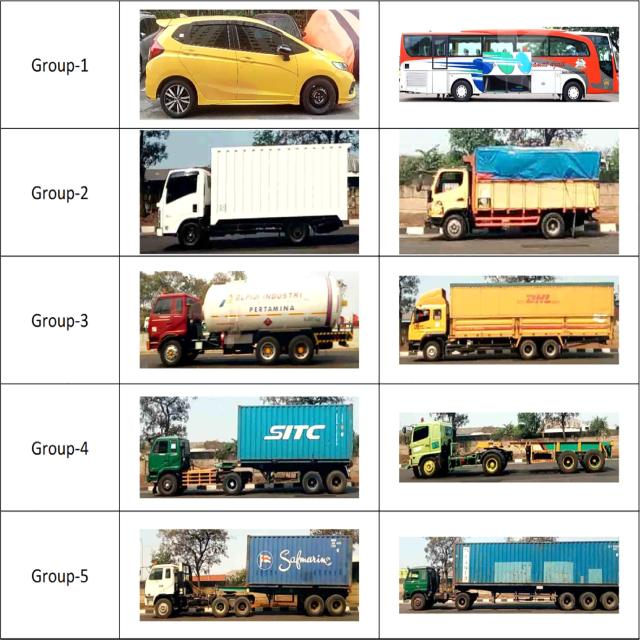Truck: (158, 135, 352, 253), (144, 398, 358, 496), (403, 278, 620, 366), (146, 270, 344, 366), (424, 141, 598, 241), (143, 536, 354, 617), (401, 539, 619, 610), (402, 411, 614, 479)
